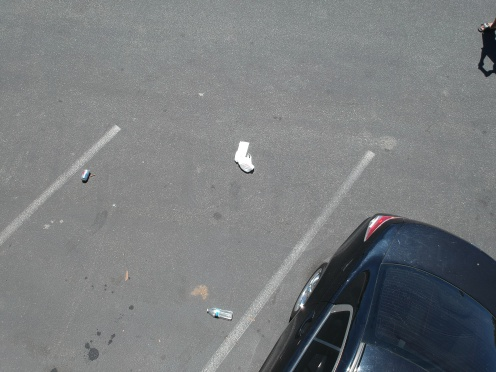bottle: (200, 303, 239, 322)
can: (78, 168, 91, 183)
plastic bag: (232, 138, 263, 173)
